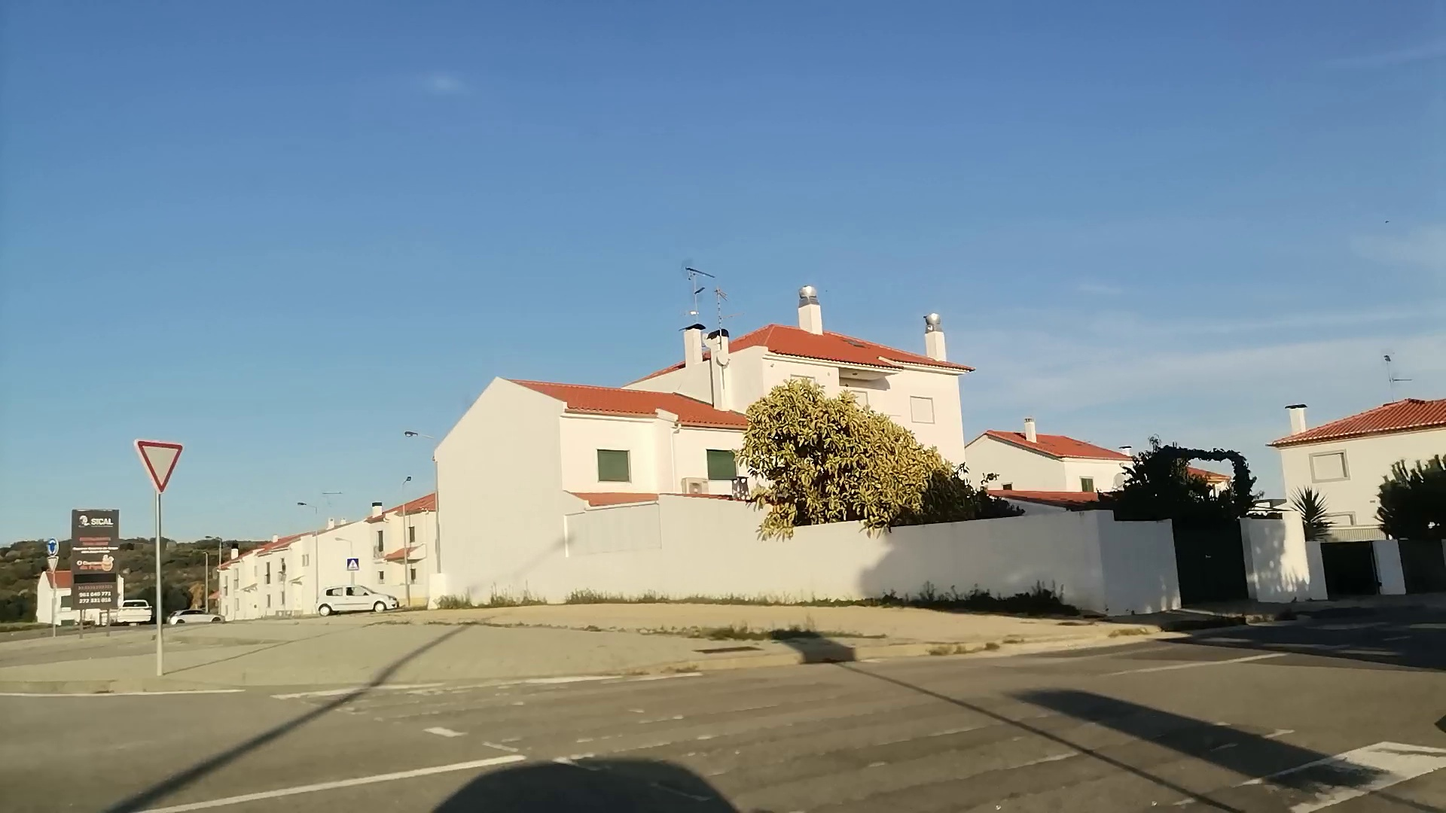Stairs: (279, 670, 1446, 813)
